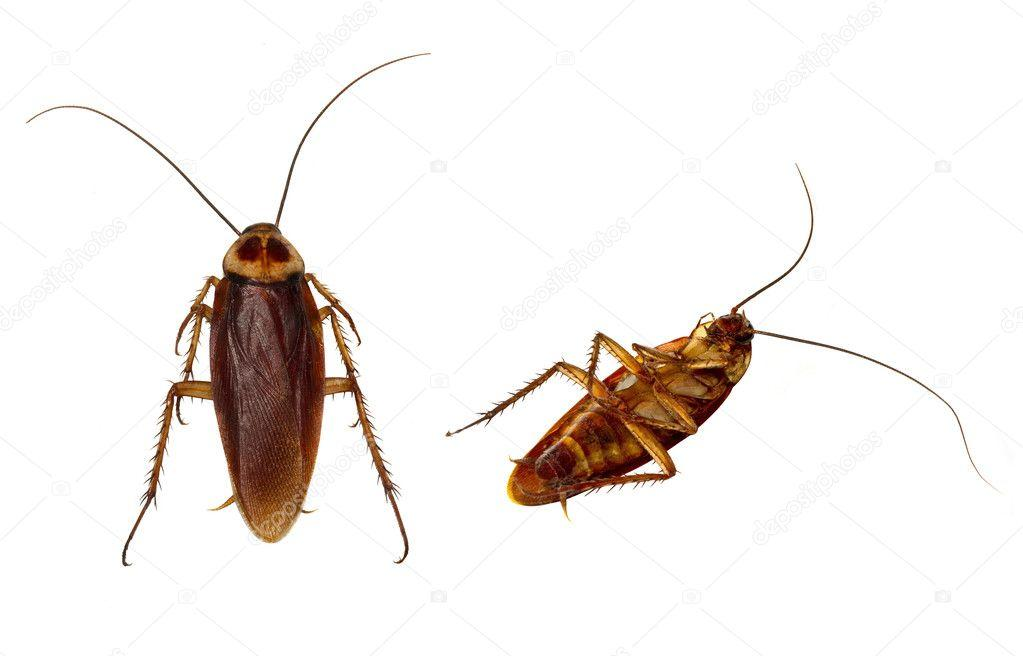cockroach: (498, 301, 758, 512), (188, 210, 344, 548)
